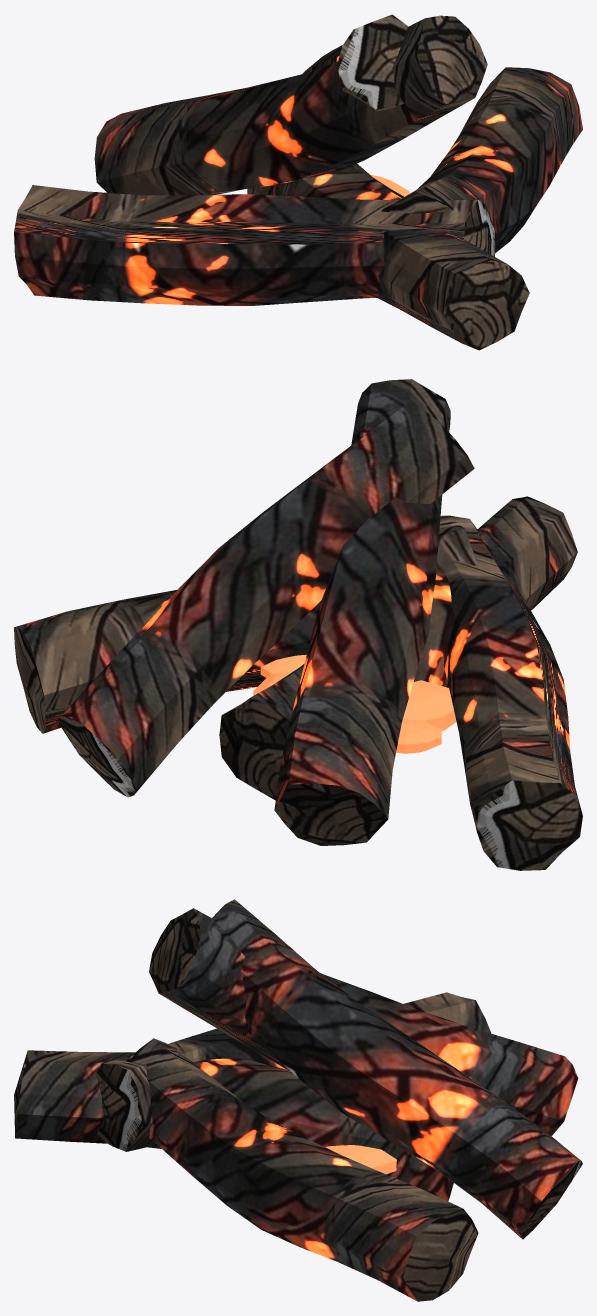
File: cui-chay-do-2.glb
3 views of the same model, one above another, from view 1: azimuth 30°, elevation 25°; view 2: azimuth 150°, elevation 25°; view 3: azimuth 270°, elevation 25° (orthographic). The views are drawn at different scales.
Visible parts, largest first — view 1: log; view 2: log; view 3: log.
Part boxes in pixels (left/top/right/bottom): log: left=14, top=14, right=582, bottom=350; log: left=14, top=379, right=582, bottom=870; log: left=14, top=899, right=582, bottom=1301.
Size of the model in its own units: 0.6692 by 0.3575 by 0.6239.
3 materials, 2 textured.
